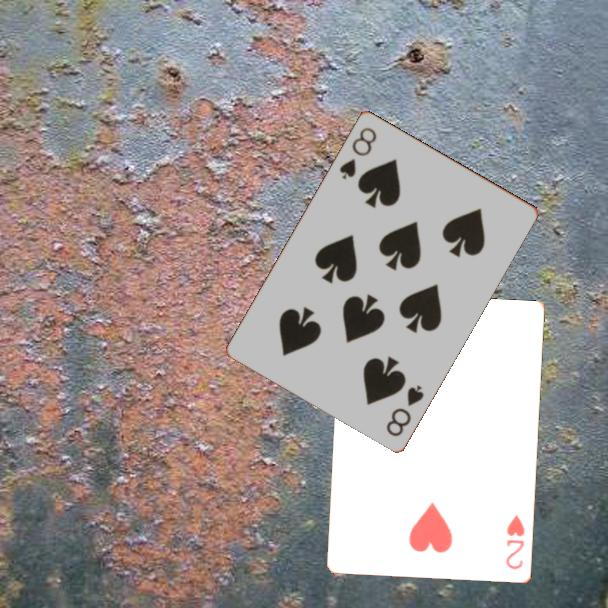h02: (503, 511, 528, 573)
s08: (382, 381, 427, 439), (336, 123, 380, 182)
